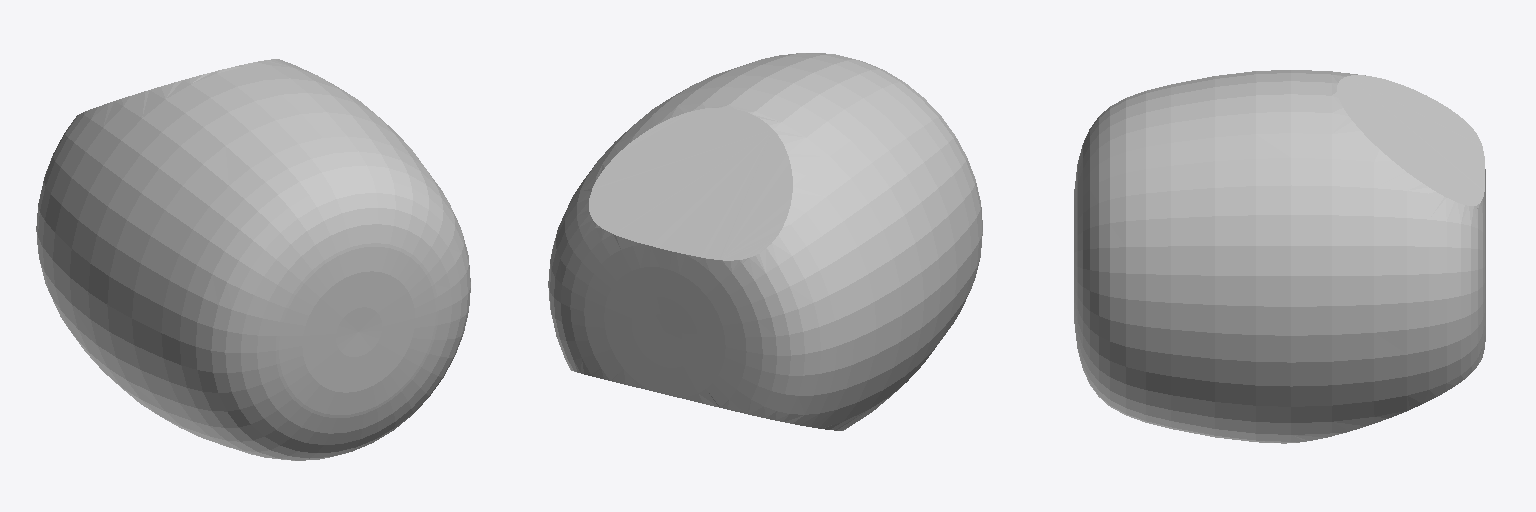
File: hip2_ascii.obj
3 views of the same model, side by side, from view 1: azimuth 30°, elevation 25°; view 2: azimuth 150°, elevation 25°; view 3: azimuth 270°, elevation 25° (orthographic).
Visible parts, largest first — view 1: Object__0; view 2: Object__0; view 3: Object__0.
Boxes of the visible parts, <box> form: Object__0: <box>36,59,470,460</box>; Object__0: <box>548,53,982,430</box>; Object__0: <box>1074,70,1485,443</box>.
Bounding box in the file's own units: 0.2181 × 0.2164 × 0.2405.